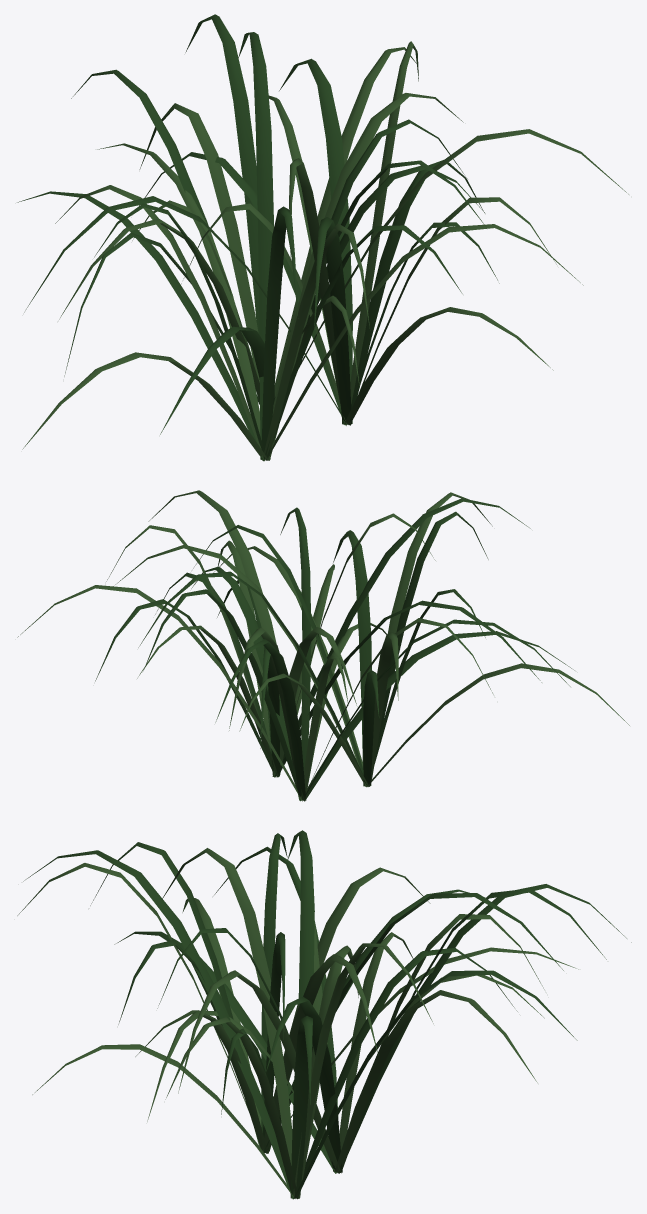
Rendered from groundcover.glb.
The picture shows the model from 3 angles, top to bottom: view 1: azimuth 30°, elevation 25°; view 2: azimuth 150°, elevation 25°; view 3: azimuth 270°, elevation 25°; orthographic projection. The views are drawn at different scales.
Parts seen in each view (by area): view 1: Hachiko_groundcover_tuft_ESTIMATED; view 2: Hachiko_groundcover_tuft_ESTIMATED; view 3: Hachiko_groundcover_tuft_ESTIMATED.
Boxes of the visible parts, bbox=[...] form: Hachiko_groundcover_tuft_ESTIMATED: bbox=[17, 14, 628, 461]; Hachiko_groundcover_tuft_ESTIMATED: bbox=[17, 490, 629, 801]; Hachiko_groundcover_tuft_ESTIMATED: bbox=[17, 830, 631, 1199].
Size of the model in its own units: 0.3309 by 0.1668 by 0.3058.
